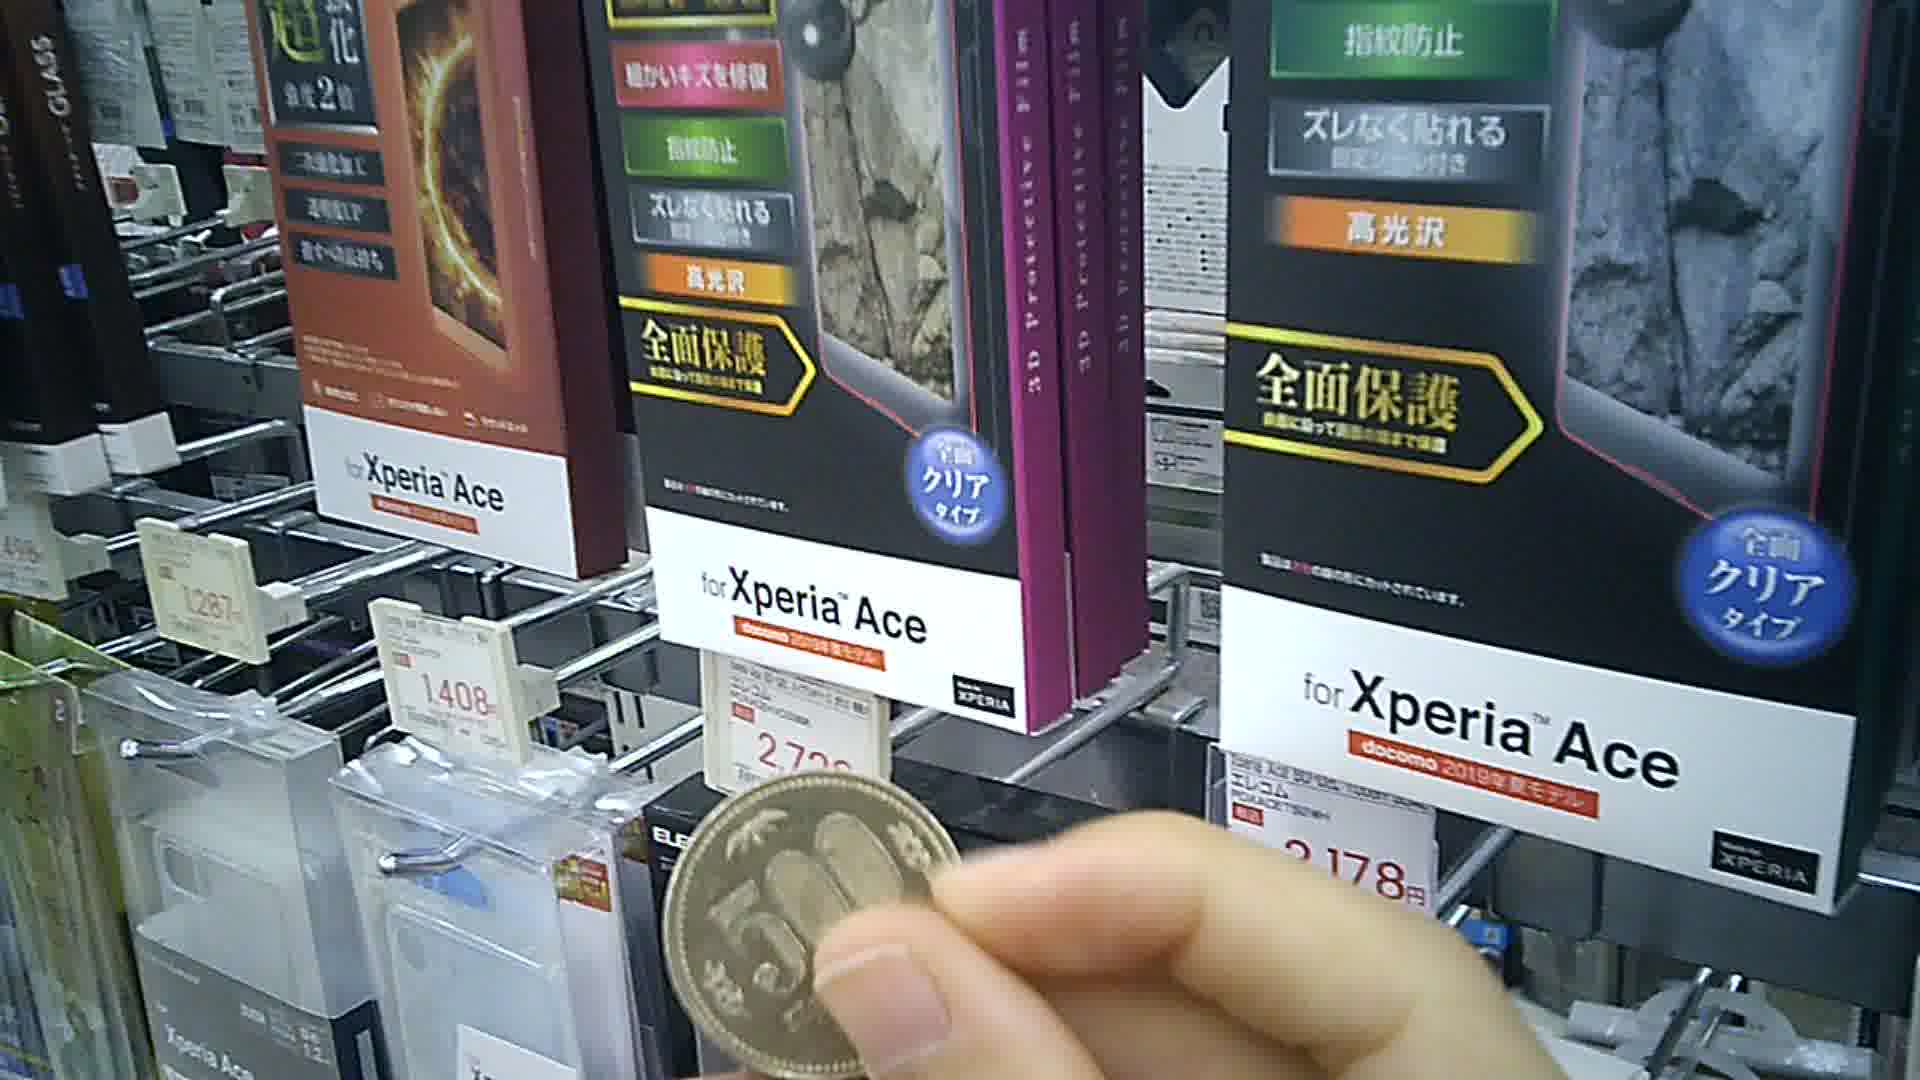500 Yen: (657, 770, 967, 1079)
